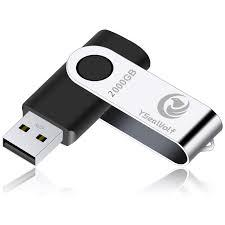Flash-drive: (0, 12, 217, 191)
